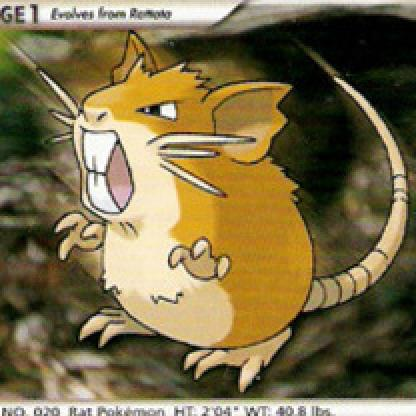Raticate: (37, 29, 415, 391)
